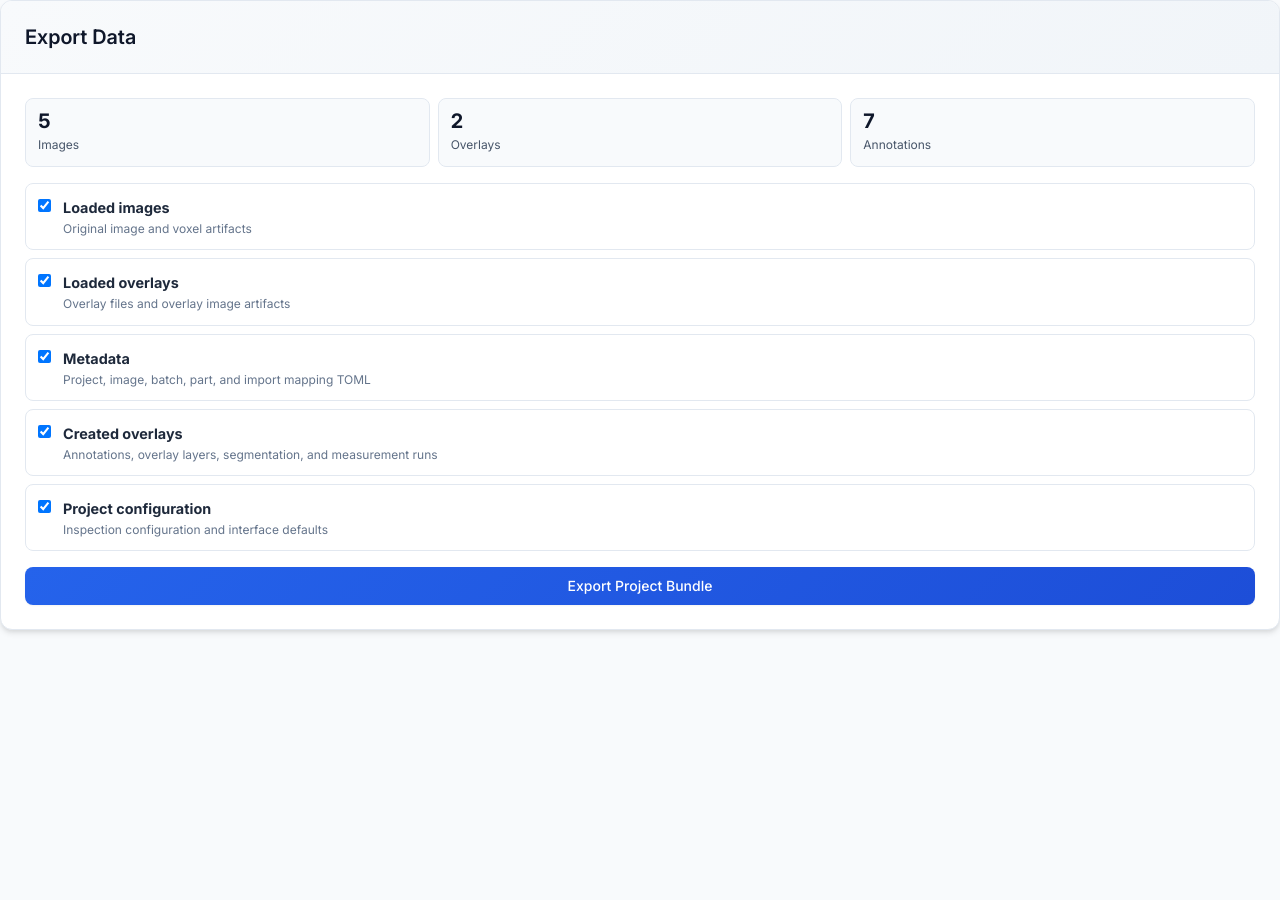
Test: ProjectDataExportPanel › exports selected project artifacts with TOML bundle options
Expected: the heading "Export Data" is shown, left=25, top=25, right=136, bottom=49
Expected: the text "Loaded images" is shown, left=63, top=199, right=170, bottom=216
Click the checkbox labelled "Loaded overlays Overlay files and overlay image artifacts". click: (44, 281)
box: left=38, top=274, right=51, bottom=287
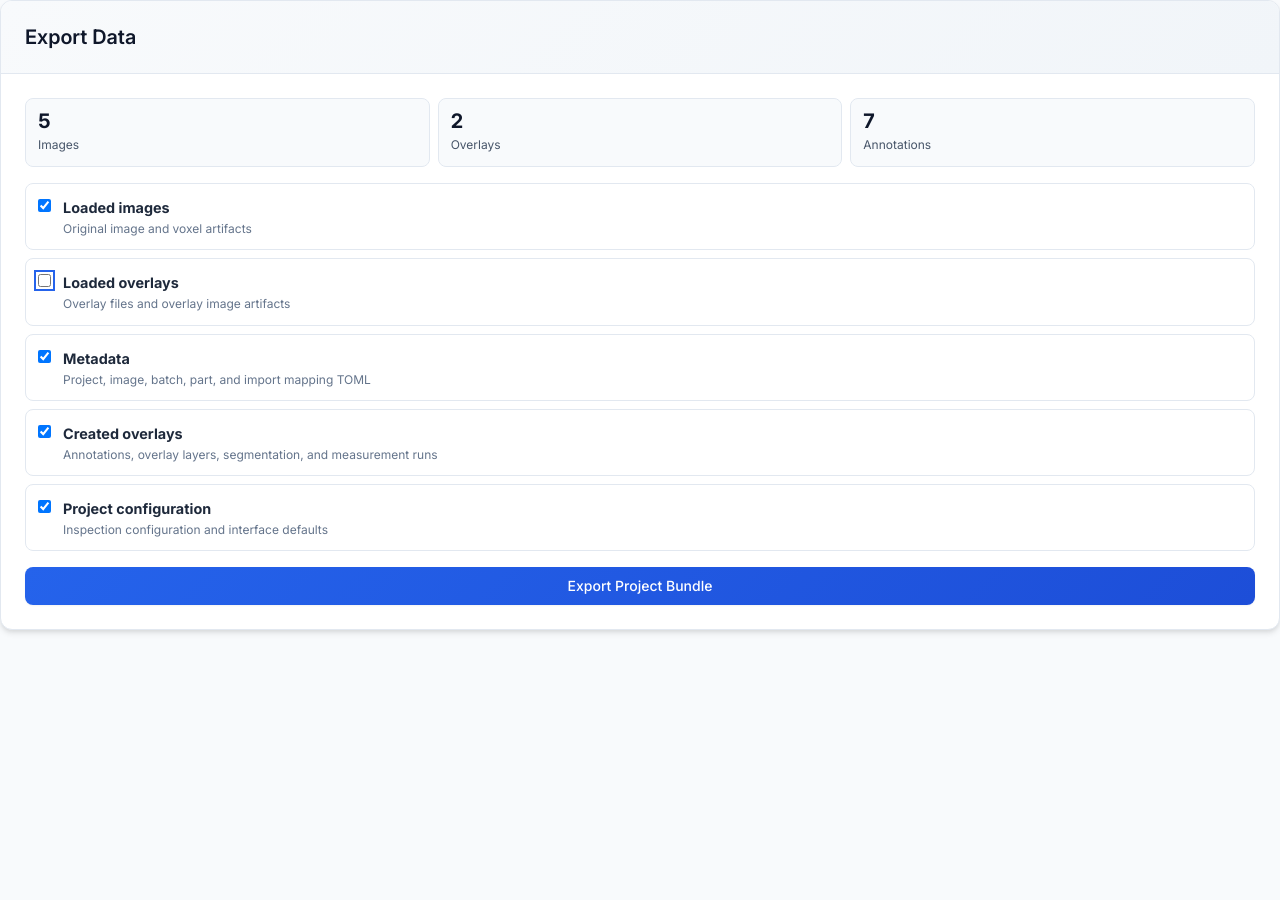
Click the button "Export Project Bundle". click: (640, 586)
box: left=25, top=567, right=1255, bottom=605
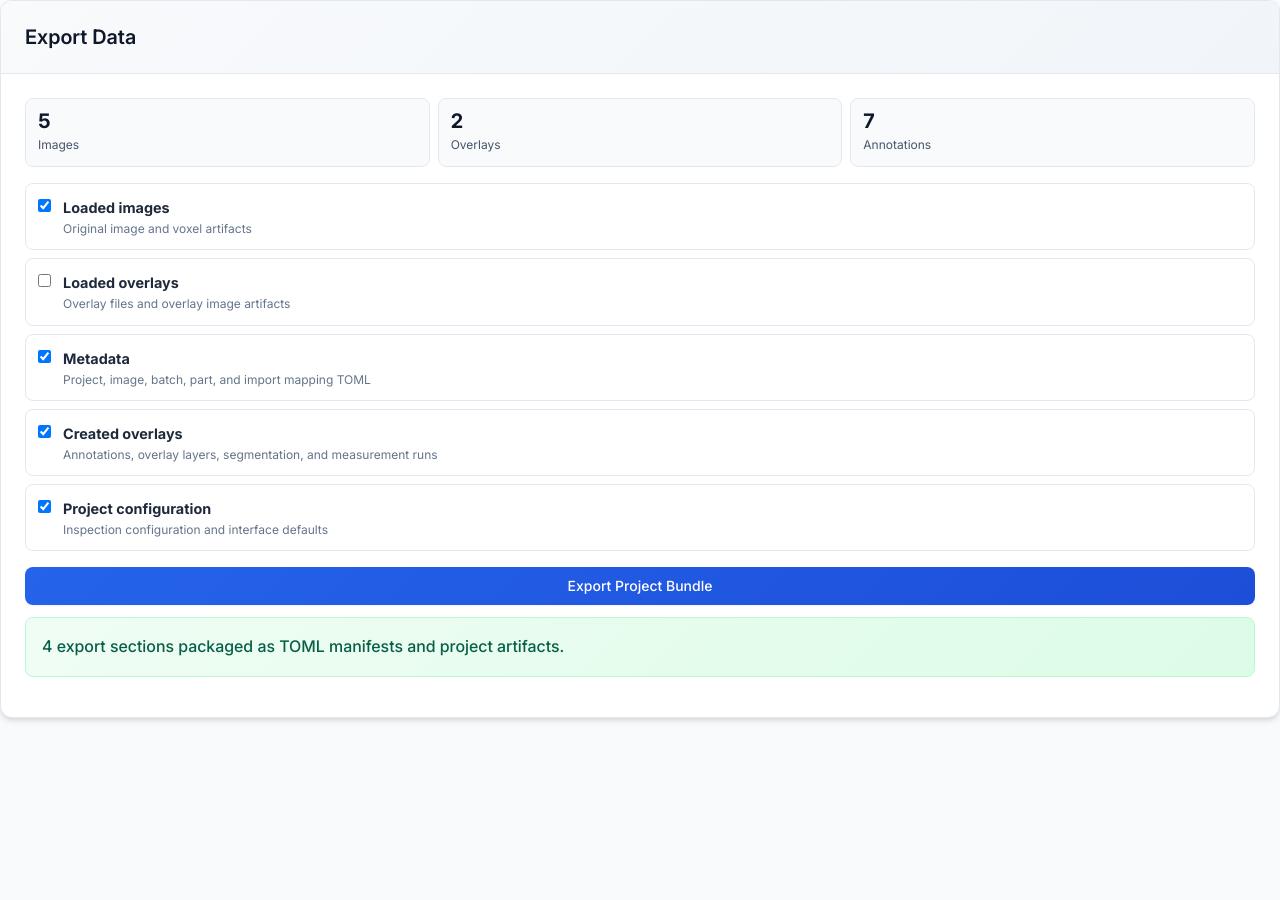
Expected: the text with test id "project-data-export-result" shows "4 export sections", left=42, top=636, right=564, bottom=656
